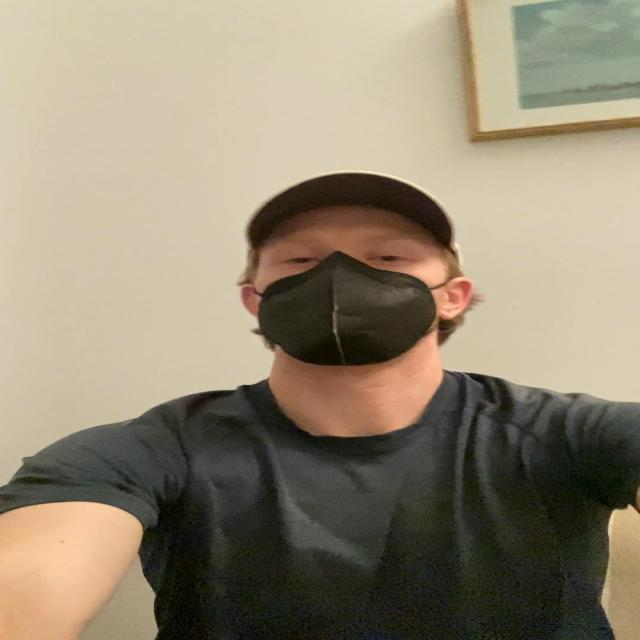no hat: (249, 202, 448, 366)
